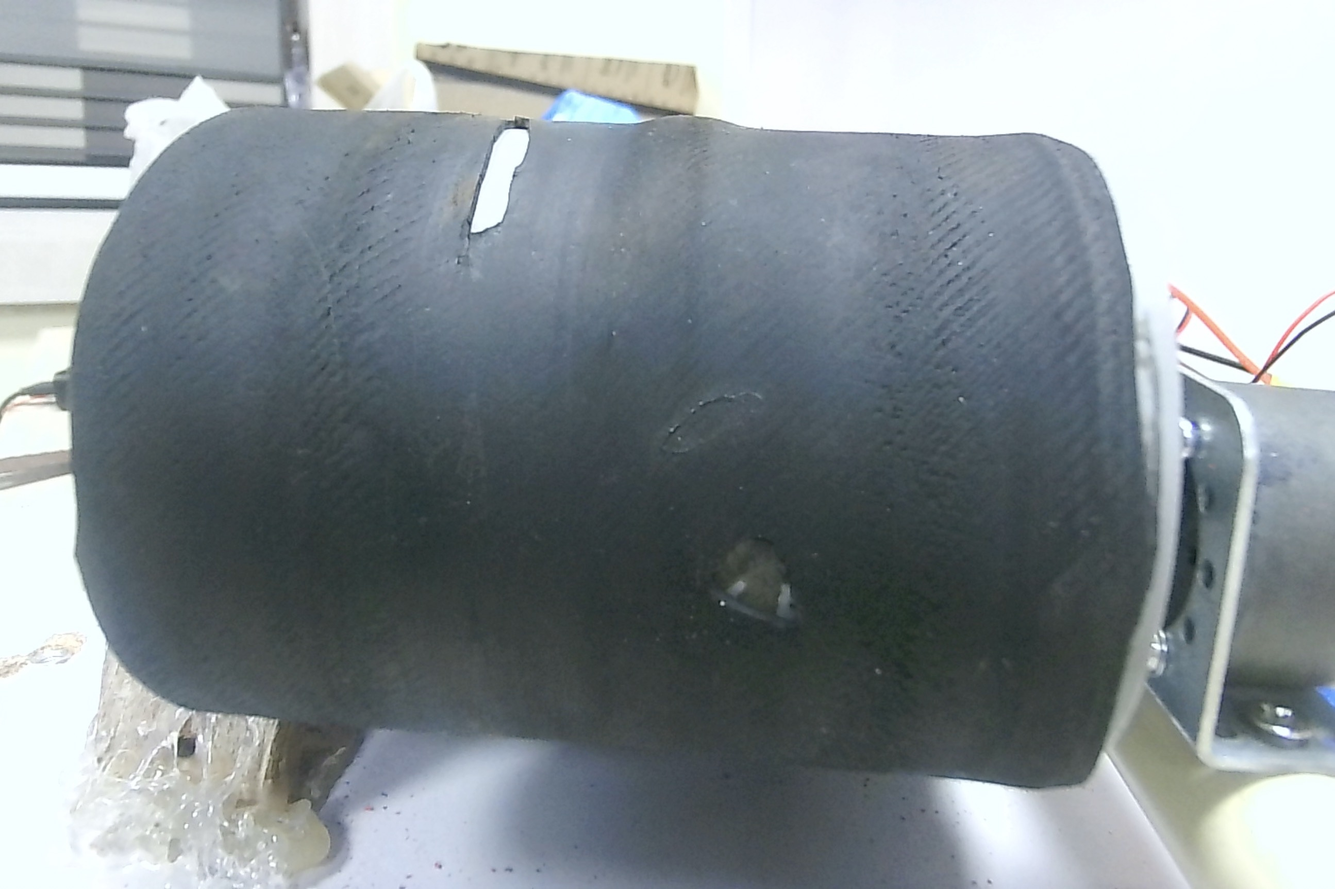hole: (715, 533, 769, 619)
tear: (484, 114, 524, 238)
